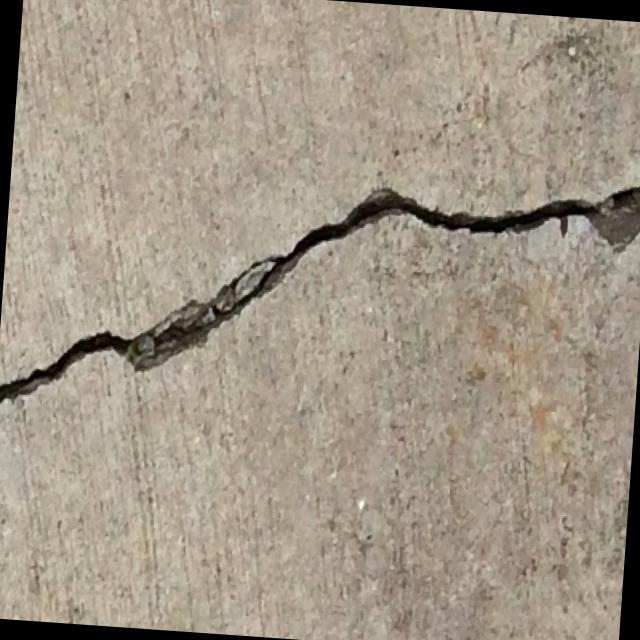crack: (0, 130, 640, 459)
spall: (578, 174, 640, 260)
